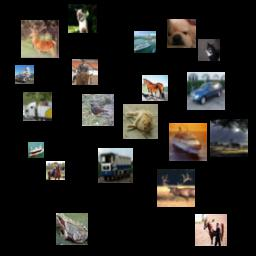automobile: (187, 72, 225, 110)
bird: (82, 94, 114, 126)
cat: (123, 104, 158, 139), (68, 4, 97, 33), (198, 39, 220, 61)
deer: (157, 169, 195, 207), (21, 20, 59, 58), (210, 119, 248, 157)
dog: (167, 19, 196, 48)
frog: (56, 213, 88, 245)
ship: (169, 123, 207, 161), (134, 31, 156, 53), (28, 142, 44, 158)
truck: (98, 148, 133, 183), (23, 92, 52, 121), (15, 65, 34, 84)
